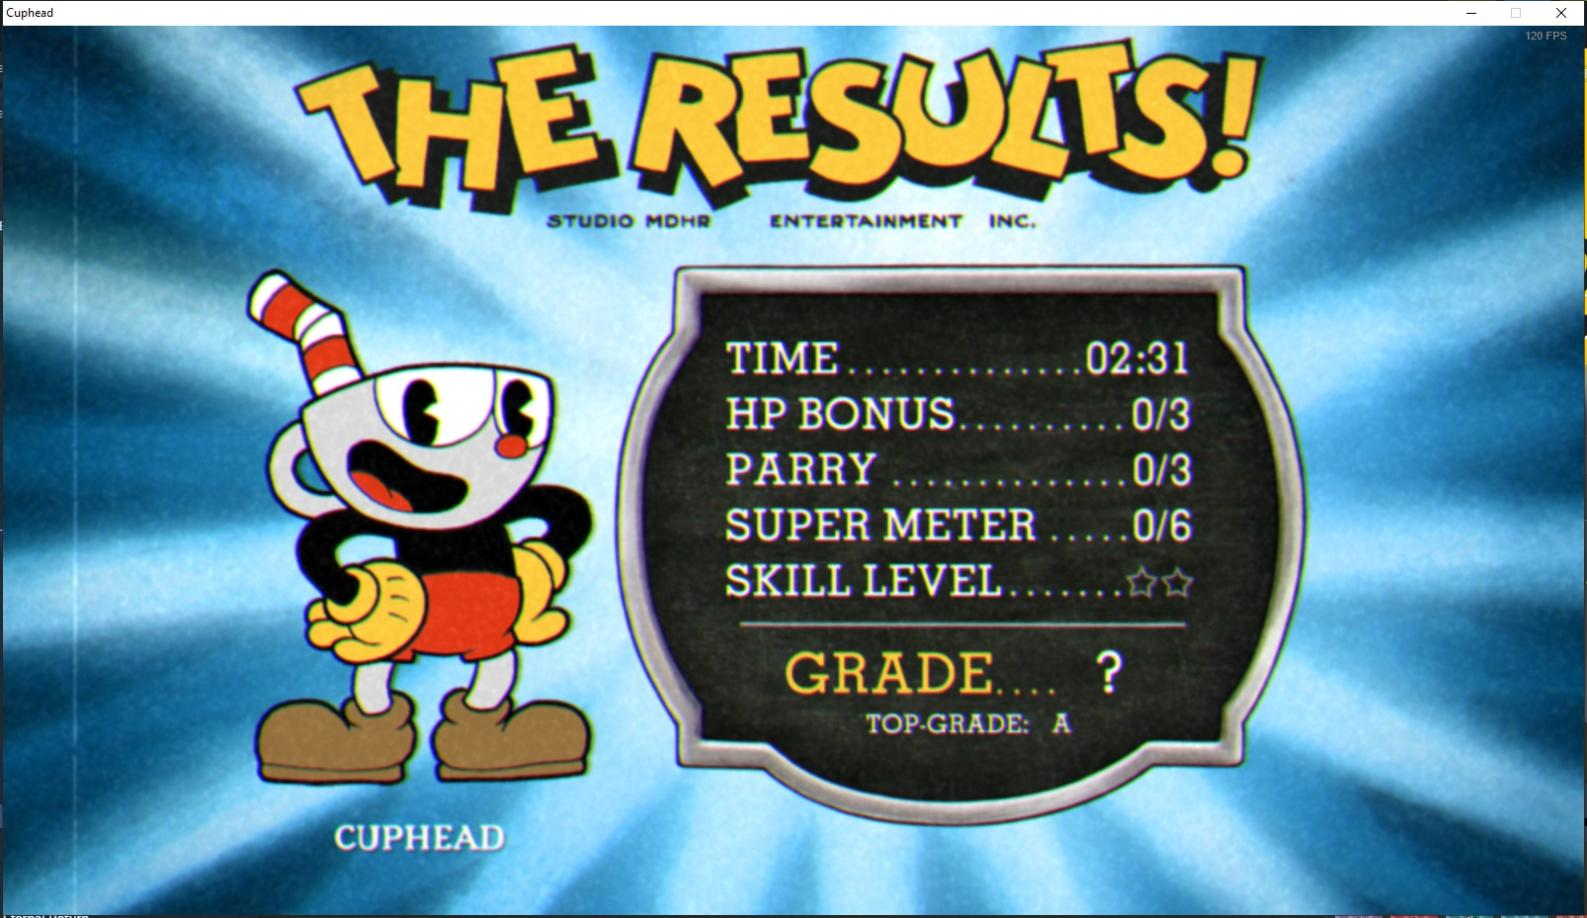win_results: (279, 31, 1283, 250)
